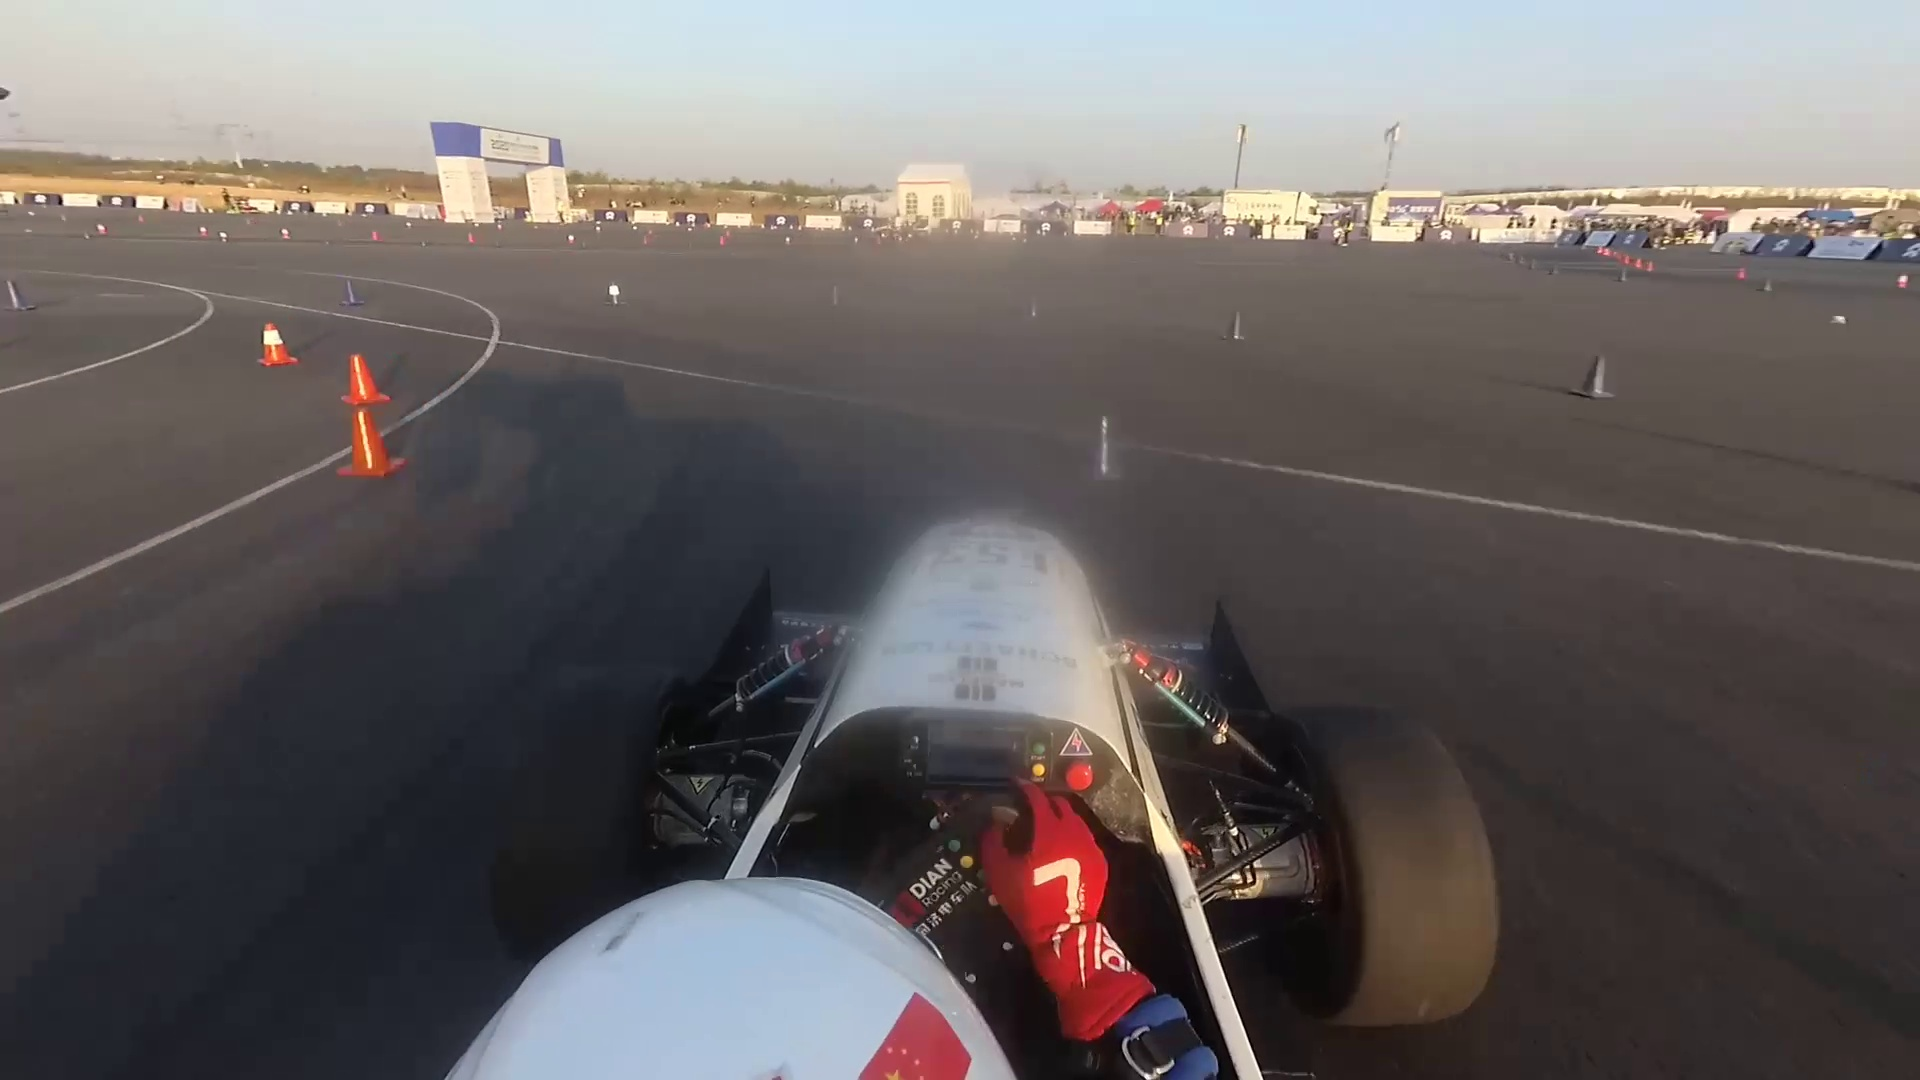blue_cone: (1076, 417, 1127, 483), (1569, 356, 1615, 405), (4, 277, 34, 311), (1224, 313, 1251, 342), (820, 287, 841, 309), (1023, 299, 1040, 320), (345, 277, 357, 306), (605, 285, 620, 306)
red_cone: (342, 413, 400, 480), (342, 360, 388, 404), (257, 320, 295, 368)
